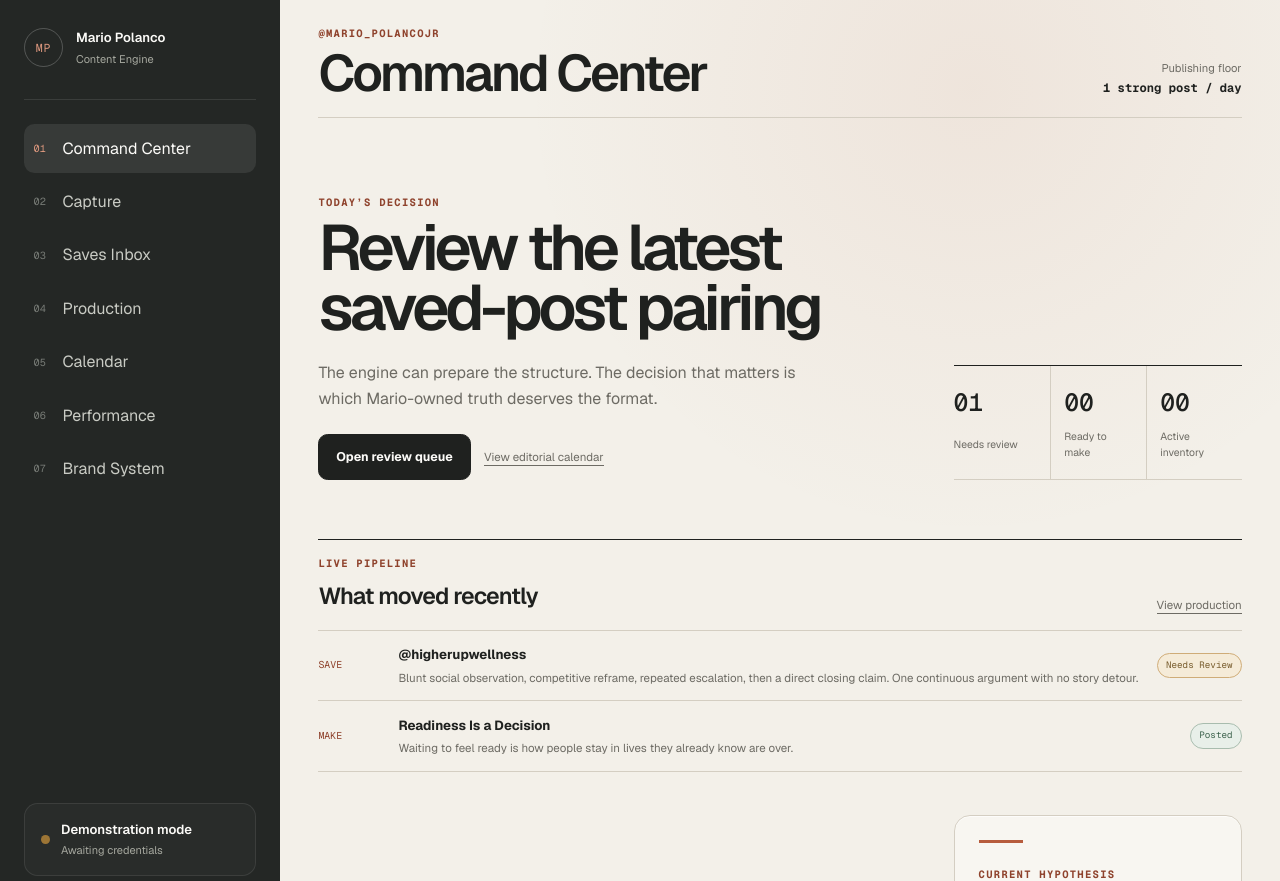
Test: Production package instructions › keeps posted items out of the active workbench and removes Media ID linking
The width and height of the screenshot is (1280, 881).
Click the button "04 Production" at (140, 309), box [24,284,256,333]
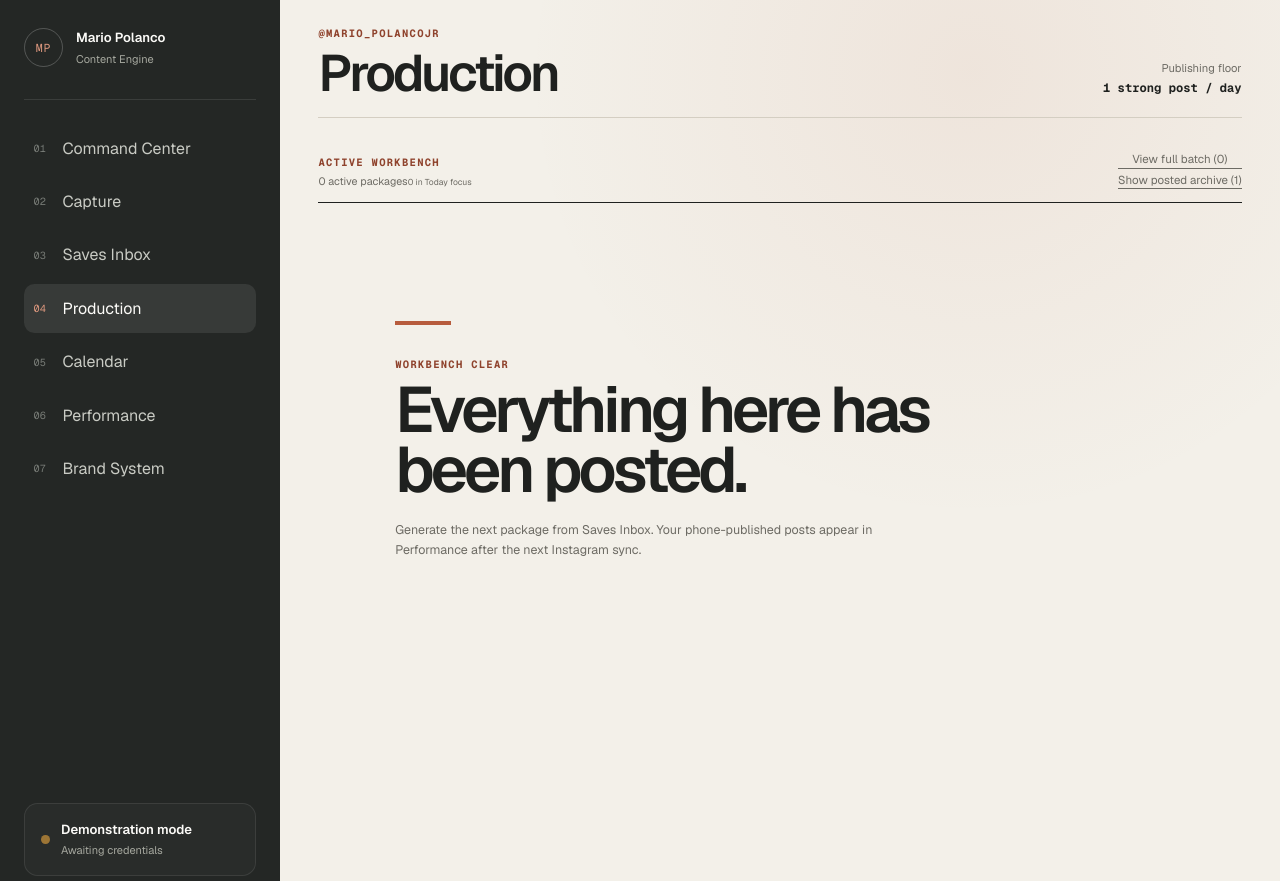
Result: the heading "Everything here has been posted." is shown at [395,380,1007,501]
Result: the button "Show posted archive (1)" is shown
Click the button "Show posted archive (1)" at (1180, 180), box [1118,171,1242,189]
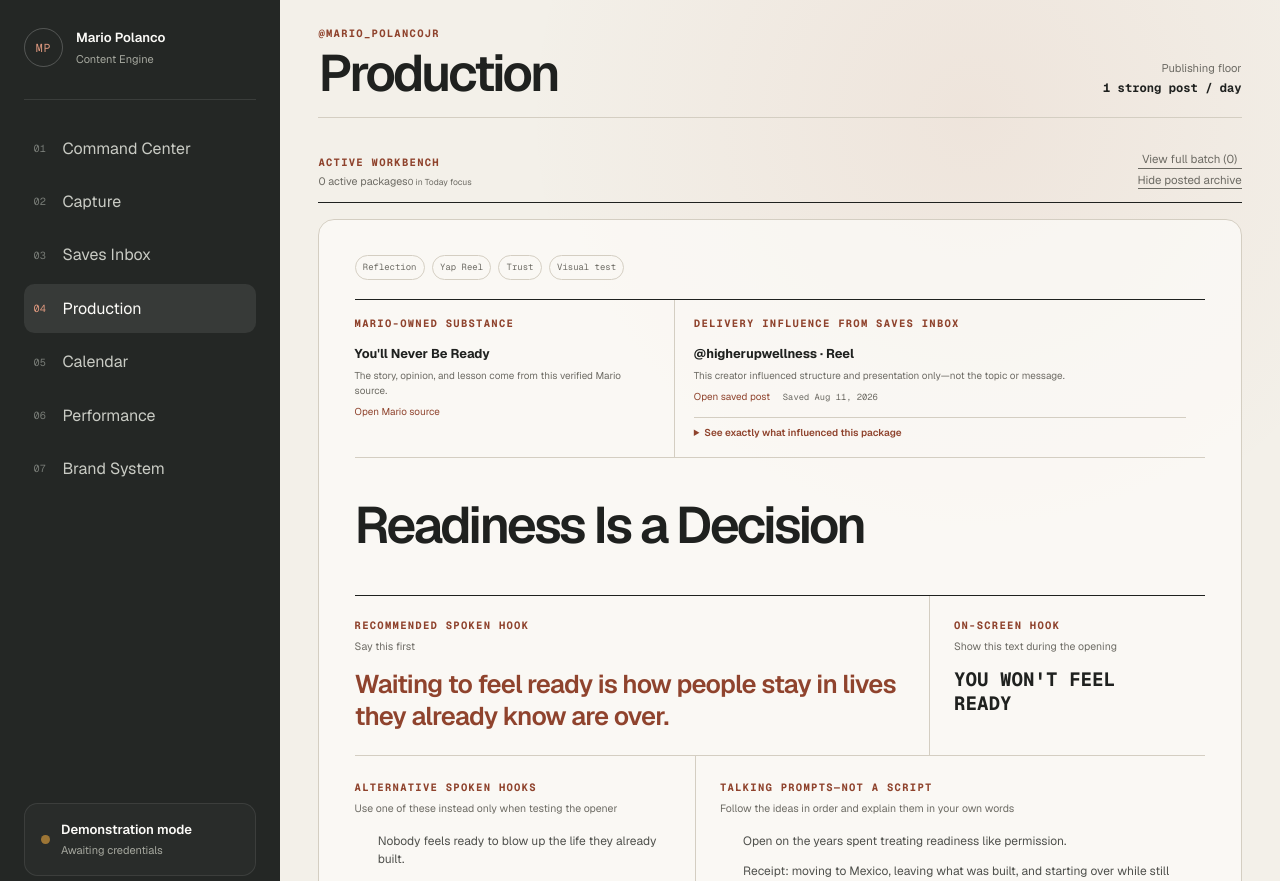
Result: the heading "Readiness Is a Decision" is shown at [355,492,864,558]
